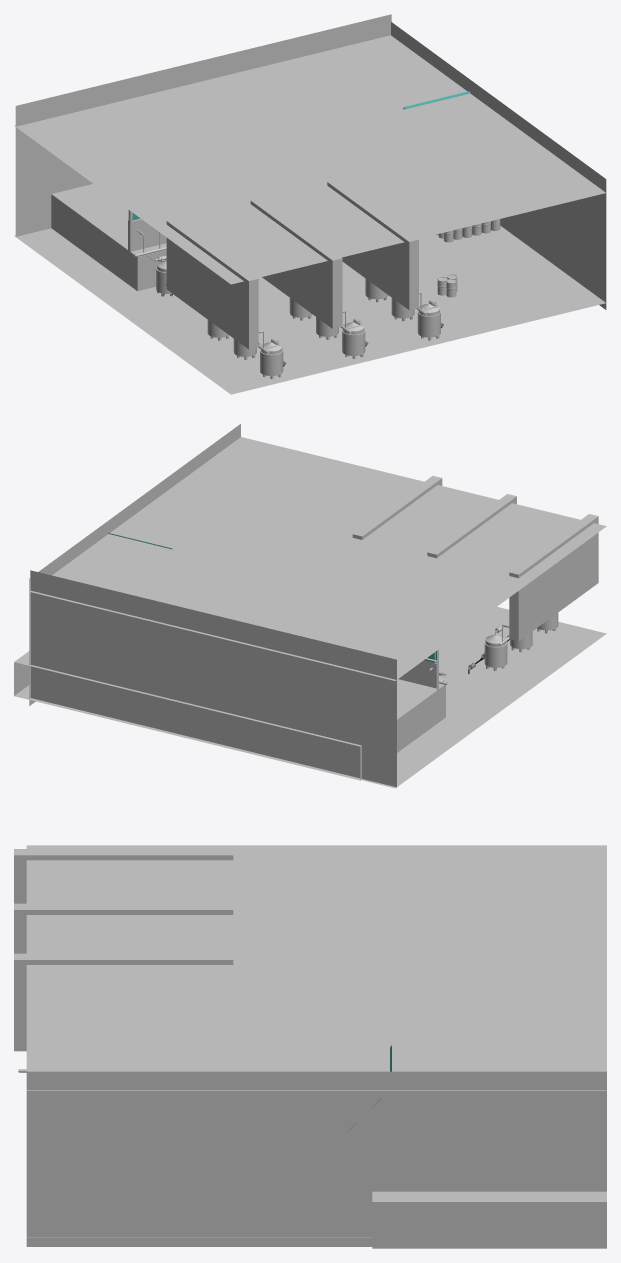
Rendered from Factory.fbx.
The picture shows the model from 3 angles, top to bottom: view 1: azimuth 30°, elevation 25°; view 2: azimuth 150°, elevation 25°; view 3: azimuth 270°, elevation 25°; orthographic projection. The views are drawn at different scales.
Visible parts, largest first — view 1: pPlane3, pPlane1, pCube13, pPlane5, pCylinder107, pCylinder51, pCylinder42; view 2: pPlane3, pPlane5, pCube13, pPlane1, pCylinder48; view 3: pPlane3, pPlane5, pCube13.
Part boxes in pixels (<box>): pPlane3: <box>14,35,606,284</box>; pPlane1: <box>14,226,605,394</box>; pCube13: <box>51,179,418,349</box>; pPlane5: <box>15,14,606,309</box>; pCylinder107: <box>417,303,440,340</box>; pCylinder51: <box>260,342,283,378</box>; pCylinder42: <box>342,322,365,358</box>; pPlane3: <box>29,437,606,680</box>; pPlane5: <box>29,424,396,787</box>; pCube13: <box>14,476,598,780</box>; pPlane1: <box>30,607,606,788</box>; pCylinder48: <box>484,635,507,670</box>; pPlane3: <box>26,845,606,1090</box>; pPlane5: <box>26,1071,606,1246</box>; pCube13: <box>14,849,606,1248</box>.
Bounding box in the file's own units: 90.98 × 30.71 × 89.33.
